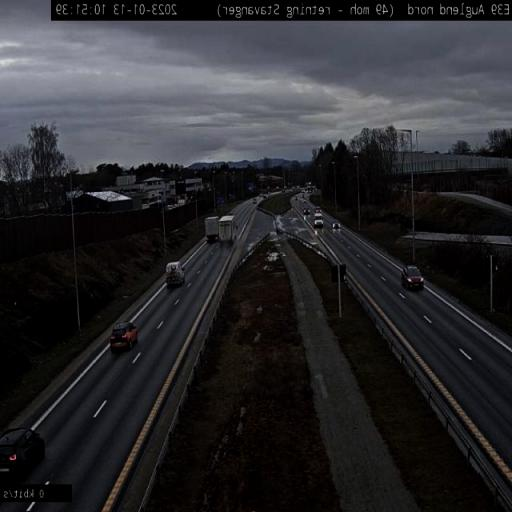vehicle: (0, 427, 46, 482), (109, 322, 139, 351), (400, 265, 424, 289), (402, 264, 424, 290), (314, 216, 324, 228)
